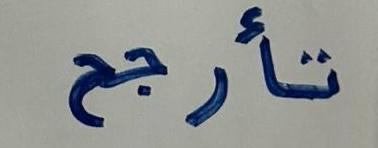hah: (55, 28, 116, 135)
hamza: (233, 5, 286, 119)
jeem: (118, 34, 174, 118)
reh: (180, 50, 230, 135)
teh: (288, 34, 357, 118)
